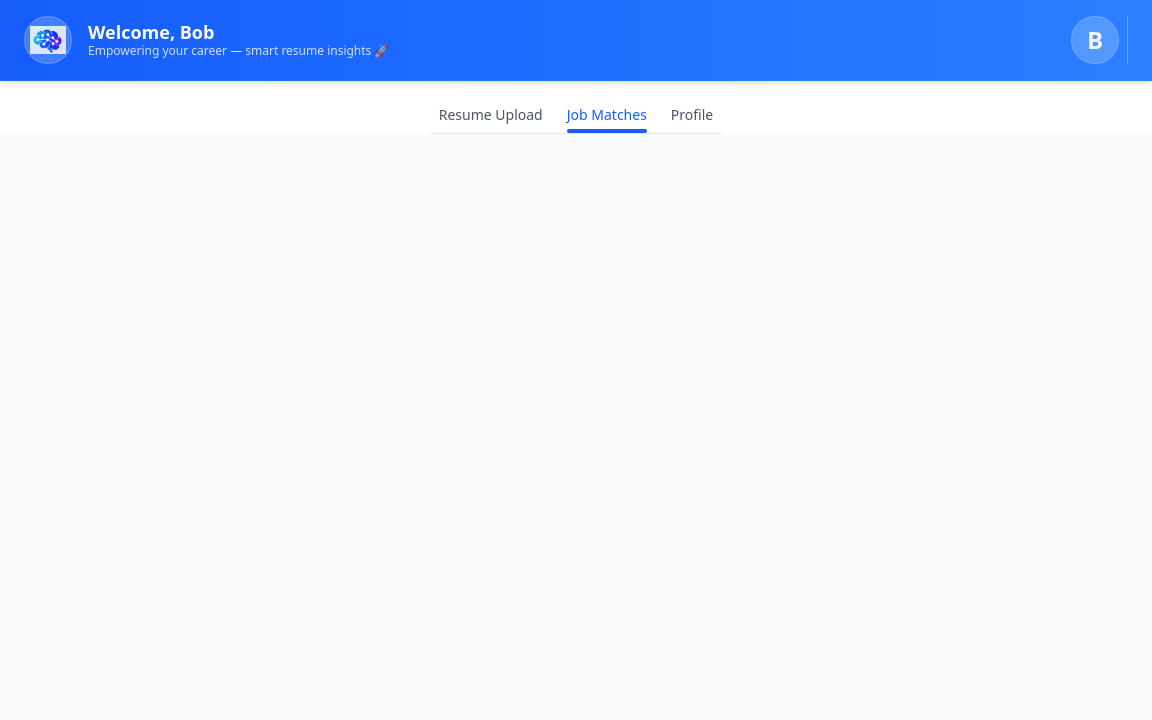
Scenario: Dashboard - switches to resume upload tab when clicked
The width and height of the screenshot is (1152, 720).
Click the button "Resume Upload".
click(491, 115)  # box [439, 97, 543, 133]
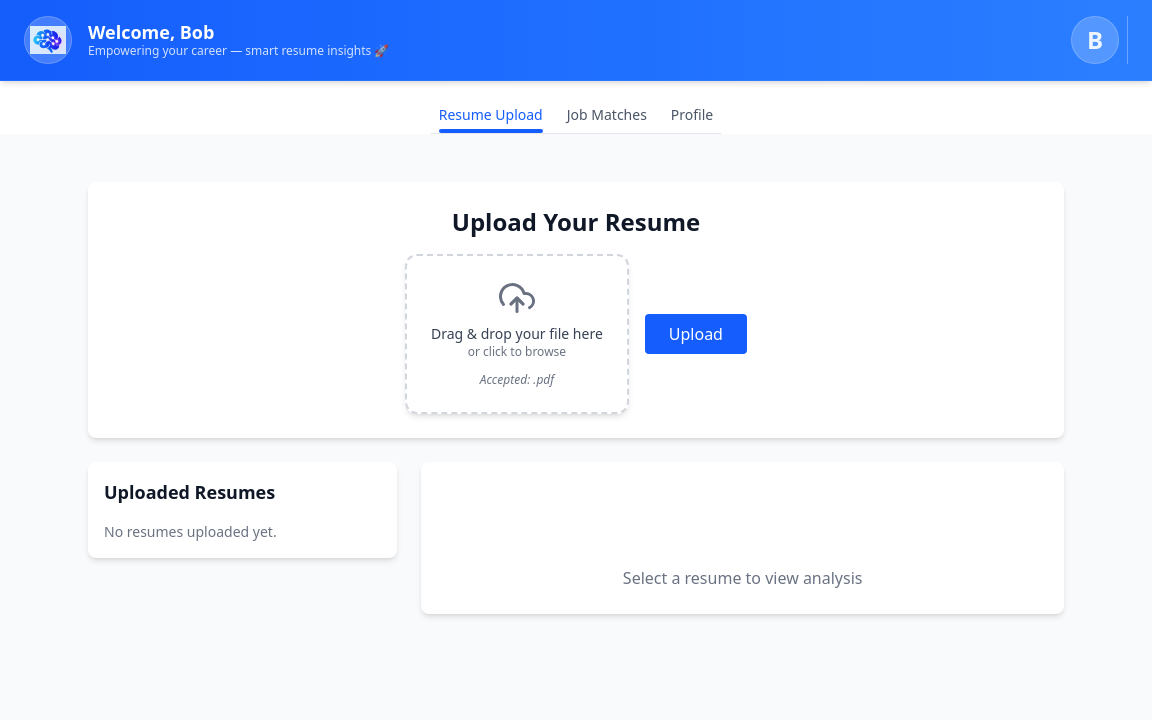
Expected: the heading "Upload Your Resume" is shown, [452, 205, 700, 238]
